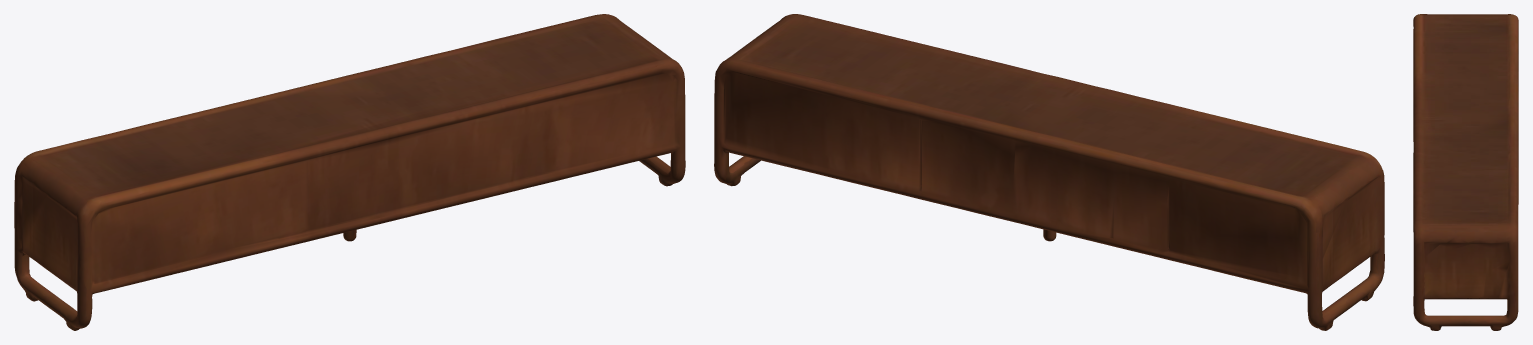
The model's file is fm_tv_stand_walnut.glb.
3 views of the same model, side by side, from view 1: azimuth 30°, elevation 25°; view 2: azimuth 150°, elevation 25°; view 3: azimuth 270°, elevation 25° (orthographic). The views are drawn at different scales.
Parts seen in each view (by area): view 1: world; view 2: world; view 3: world.
Boxes of the visible parts, box(x1,y1,x2,y2) form: world: box(14, 14, 685, 330); world: box(714, 14, 1384, 330); world: box(1413, 14, 1518, 330).
Bounding box in the file's own units: 1.8 × 0.3863 × 0.3601.
Materials: 1 (1 with a texture image).
